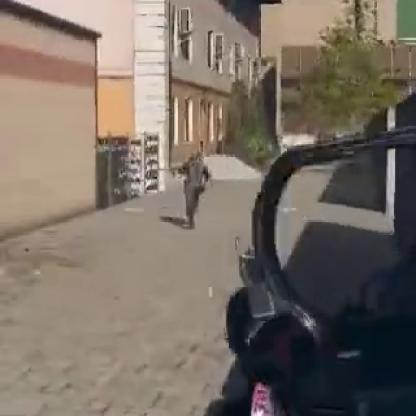enemy: (174, 150, 210, 228)
